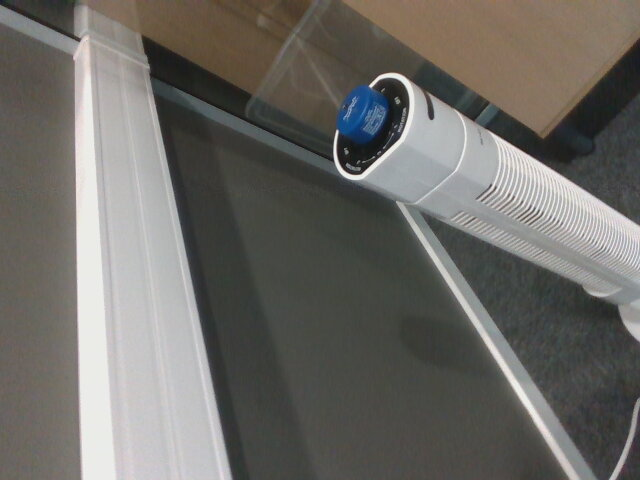alfa: (322, 80, 401, 146)
